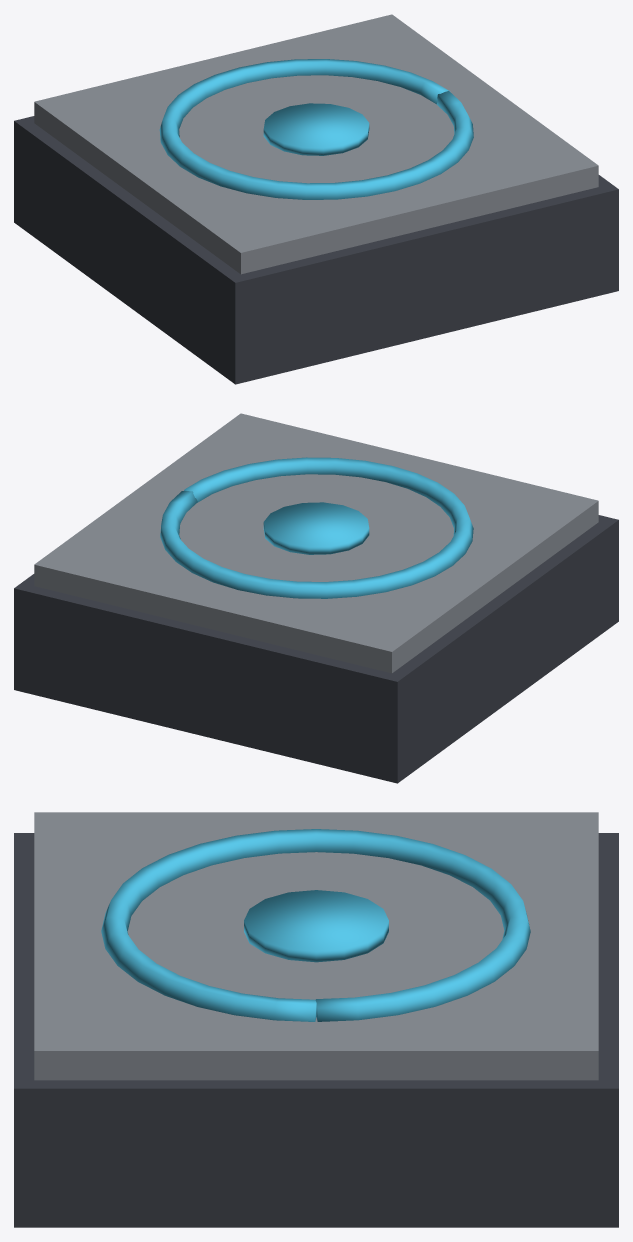
The model's file is teleporter_v0.glb.
3 renders of one model, top to bottom at view 1: azimuth 30°, elevation 25°; view 2: azimuth 150°, elevation 25°; view 3: azimuth 270°, elevation 25°, orthographic. The views are drawn at different scales.
Parts seen in each view (by area): view 1: teleporter_v0; view 2: teleporter_v0; view 3: teleporter_v0.
Boxes of the visible parts, box(x1,y1,x2,y2) form: teleporter_v0: box(14, 14, 618, 384); teleporter_v0: box(14, 413, 618, 783); teleporter_v0: box(14, 812, 618, 1227).
Bounding box in the file's own units: 1.5 × 0.5012 × 1.5.
